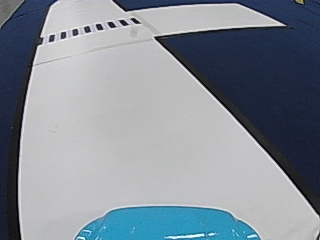CrossWalk: (43, 17, 138, 42)
